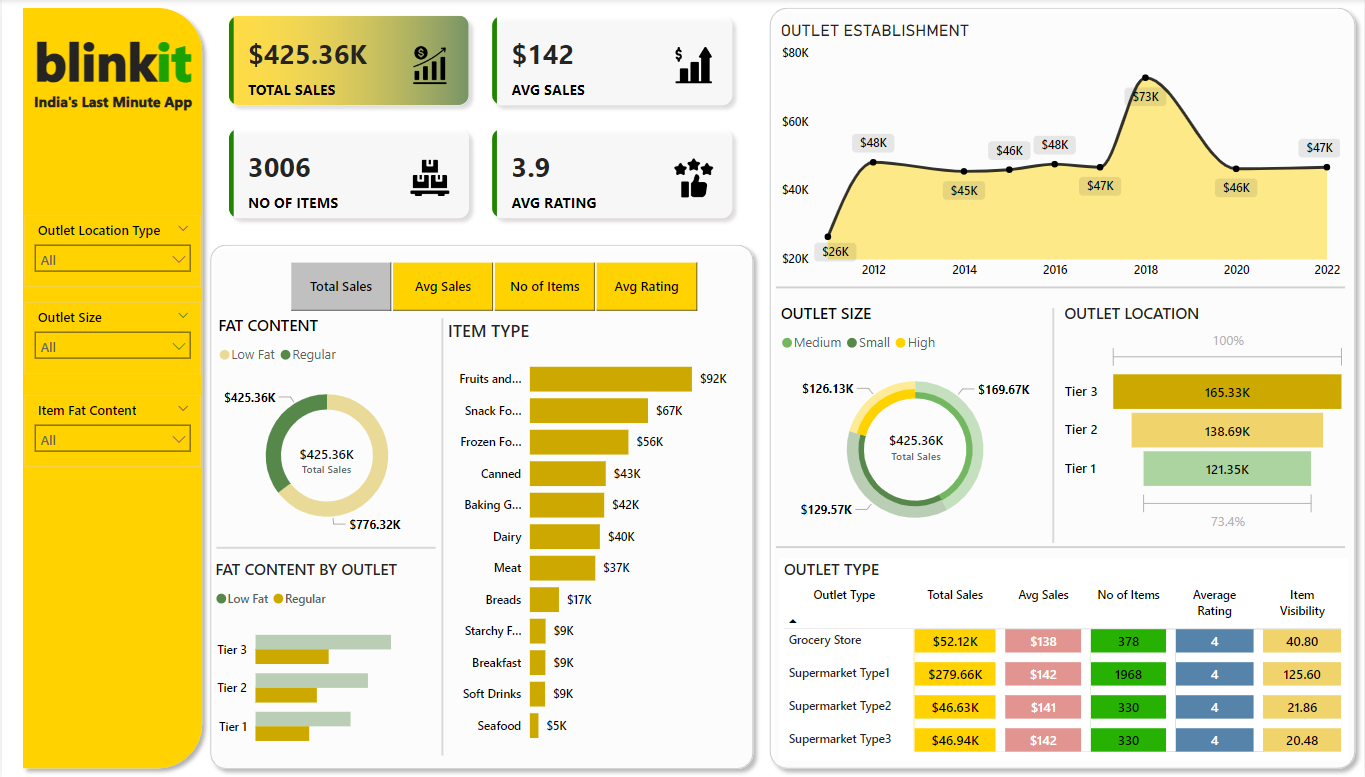

This screenshot's page, from the dashboard's own definition file:
{"tool":"powerbi","page":{"name":"Page 1","canvas":[1400,800],"ordinal":0},"visuals":[{"type":"shape","box":[12.3,0,202.7,800.2],"z":0},{"type":"textbox","box":[11.6,21.5,203.7,87.8],"z":1000},{"type":"textbox","box":[23.2,89.4,182.2,39.7],"z":2000},{"type":"cardVisual","fields":{"Data":["BlinkIT Grocery Data.Total Sales","BlinkIT Grocery Data.Avg Sales","BlinkIT Grocery Data.No of Items","BlinkIT Grocery Data.Average Rating"]},"box":[215.9,0,553.7,242.2],"z":3000},{"type":"shape","box":[204.4,243.2,576.3,556.9],"z":4000},{"type":"donutChart","title":"FAT CONTENT","fields":{"Y":["BlinkIT Grocery Data.Total Sales"],"Category":["BlinkIT Grocery Data.Item Fat Content"]},"box":[216.8,324.3,232.6,239.7],"z":5000},{"type":"slicer","fields":{"Values":["Metircs.Metircs"]},"box":[271.4,264.4,467.1,63.4],"z":6000},{"type":"cardVisual","fields":{"Data":["BlinkIT Grocery Data.Total Sales"]},"box":[278.5,433.6,109.3,81.1],"z":7000},{"type":"clusteredBarChart","title":"FAT CONTENT BY OUTLET","fields":{"Y":["BlinkIT Grocery Data.Total Sales"],"Category":["BlinkIT Grocery Data.Outlet Location Type"],"Series":["BlinkIT Grocery Data.Item Fat Content"]},"box":[215,574.6,232.6,209.7],"z":8000},{"type":"shape","box":[220.3,553.4,225.6,21.1],"z":9000},{"type":"shape","box":[445.9,327.8,14.1,449.4],"z":10000},{"type":"barChart","title":"ITEM TYPE","fields":{"Y":["BlinkIT Grocery Data.Total Sales"],"Category":["BlinkIT Grocery Data.Item Type"]},"box":[453,327.8,304.9,449.4],"z":11000},{"type":"shape","box":[780.5,0,620.1,800.5],"z":12000},{"type":"lineChart","title":"OUTLET ESTABLISHMENT","fields":{"Y":["BlinkIT Grocery Data.Total Sales"],"Category":["BlinkIT Grocery Data.Outlet Establishment Year"]},"box":[796.6,21.1,585.1,274.9],"z":12001},{"type":"shape","box":[796.6,280.2,585.1,31.7],"z":12002},{"type":"donutChart","title":"OUTLET SIZE","fields":{"Y":["BlinkIT Grocery Data.Total Sales"],"Category":["BlinkIT Grocery Data.Outlet Size"]},"box":[796.6,312,285.5,252],"z":12003},{"type":"cardVisual","fields":{"Data":["BlinkIT Grocery Data.Total Sales"]},"box":[884.8,419.5,109.3,81.1],"z":12004},{"type":"shape","box":[1076.9,317.2,8.8,241.5],"z":12005},{"type":"funnel","title":"OUTLET LOCATION","fields":{"Y":["Sum(BlinkIT Grocery Data.Sales)"],"Category":["BlinkIT Grocery Data.Outlet Location Type"]},"box":[1087.5,312,299.6,241.5],"z":12006},{"type":"shape","box":[796.6,558.7,585.1,10.6],"z":12007},{"type":"pivotTable","title":"OUTLET TYPE","fields":{"Rows":["BlinkIT Grocery Data.Outlet Type"],"Values":["BlinkIT Grocery Data.Total Sales","BlinkIT Grocery Data.Avg Sales","BlinkIT Grocery Data.No of Items","BlinkIT Grocery Data.Average Rating","Sum(BlinkIT Grocery Data.Item Visibility)"]},"box":[798.4,574.6,585.1,208],"z":12008},{"type":"slicer","fields":{"Values":["BlinkIT Grocery Data.Outlet Location Type"]},"box":[22.9,222.1,181.5,74],"z":12009},{"type":"slicer","fields":{"Values":["BlinkIT Grocery Data.Outlet Size"]},"box":[22.9,312,181.5,74],"z":12010},{"type":"slicer","fields":{"Values":["BlinkIT Grocery Data.Item Fat Content"]},"box":[22.9,407.1,181.5,74],"z":12011}]}

Visuals, with their boxes in screenshot pixels (x1, y1, x2, y2), scaled from the page's 1400x800 canvas onto the 1365x777 screenshot:
shape: [12,0,210,776]
textbox: [11,21,210,106]
textbox: [23,87,200,125]
cardVisual - BlinkIT Grocery Data.Total Sales x BlinkIT Grocery Data.Avg Sales: [211,0,750,235]
shape: [199,236,761,776]
"FAT CONTENT" donutChart: [211,315,438,548]
slicer - Metircs.Metircs: [265,257,720,318]
cardVisual - BlinkIT Grocery Data.Total Sales: [272,421,378,500]
"FAT CONTENT BY OUTLET" clusteredBarChart: [210,558,436,762]
shape: [215,537,435,558]
shape: [435,318,448,755]
"ITEM TYPE" barChart: [442,318,739,755]
shape: [761,0,1364,776]
"OUTLET ESTABLISHMENT" lineChart: [777,20,1347,287]
shape: [777,272,1347,303]
"OUTLET SIZE" donutChart: [777,303,1055,548]
cardVisual - BlinkIT Grocery Data.Total Sales: [863,407,969,486]
shape: [1050,308,1059,543]
"OUTLET LOCATION" funnel: [1060,303,1352,538]
shape: [777,543,1347,553]
"OUTLET TYPE" pivotTable: [778,558,1349,760]
slicer - BlinkIT Grocery Data.Outlet Location Type: [22,216,199,288]
slicer - BlinkIT Grocery Data.Outlet Size: [22,303,199,375]
slicer - BlinkIT Grocery Data.Item Fat Content: [22,395,199,467]
